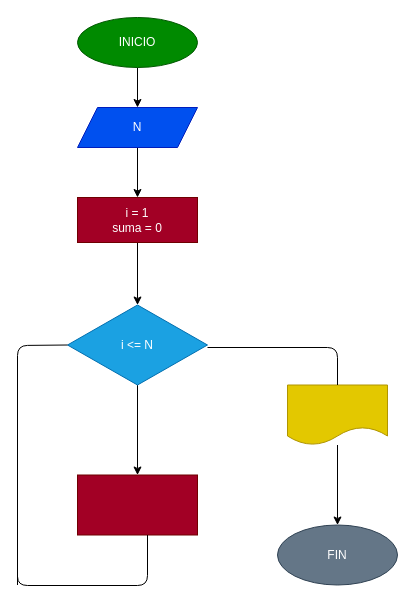
The diagram is 415 pixels wide and 604 high, and some of its shapes have lost their labels. The shapes that lost their labels are listed below. From the top down, each one's centre as x and y in pixels, then its label:
At (x=337, y=414): "sum".
At (x=137, y=504): "sum = sum + i i = i +1".
